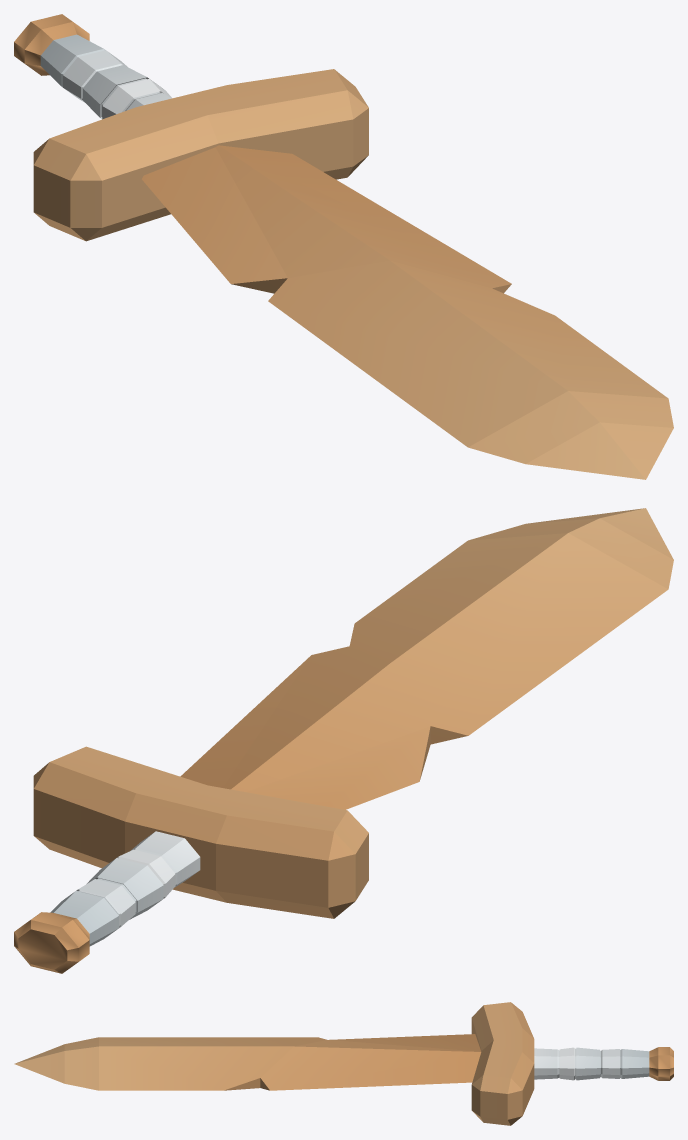
The model's file is EQ_Wooden_Sword.fbx.
The picture shows the model from 3 angles, top to bottom: view 1: azimuth 30°, elevation 25°; view 2: azimuth 150°, elevation 25°; view 3: azimuth 270°, elevation 25°; orthographic projection. The views are drawn at different scales.
Parts seen in each view (by area): view 1: wooden_Sword; view 2: wooden_Sword; view 3: wooden_Sword.
Boxes of the visible parts, x1,y1,x2,y2 form: wooden_Sword: (14,14,673,479); wooden_Sword: (14,508,673,973); wooden_Sword: (14,1002,673,1125).
Size of the model in its own units: 54.28 by 14.08 by 176.
1 material, 1 textured.
